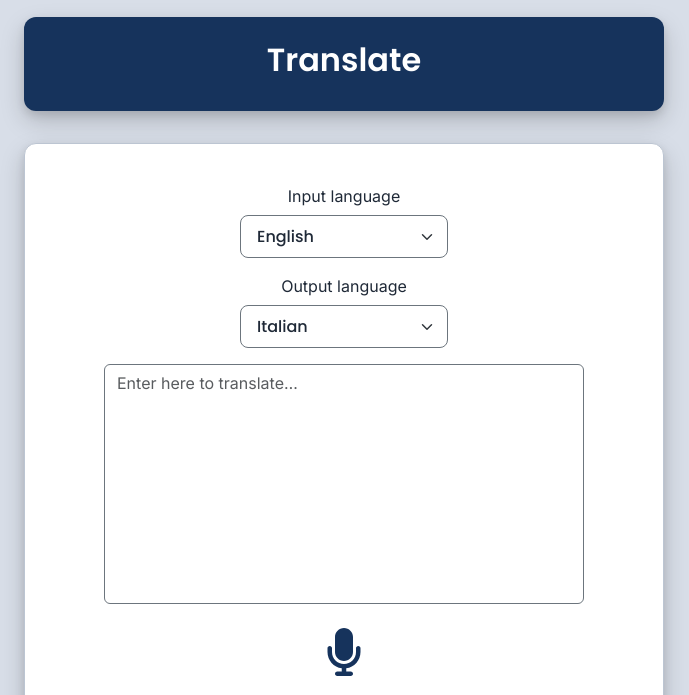
Scenario: Translate › adds each transcript to the text, so a long message can be spoken in parts
Type "ciao, " into the text box with placeholder "Enter here to translate…". click: (344, 484)
box: [104,364,584,604]
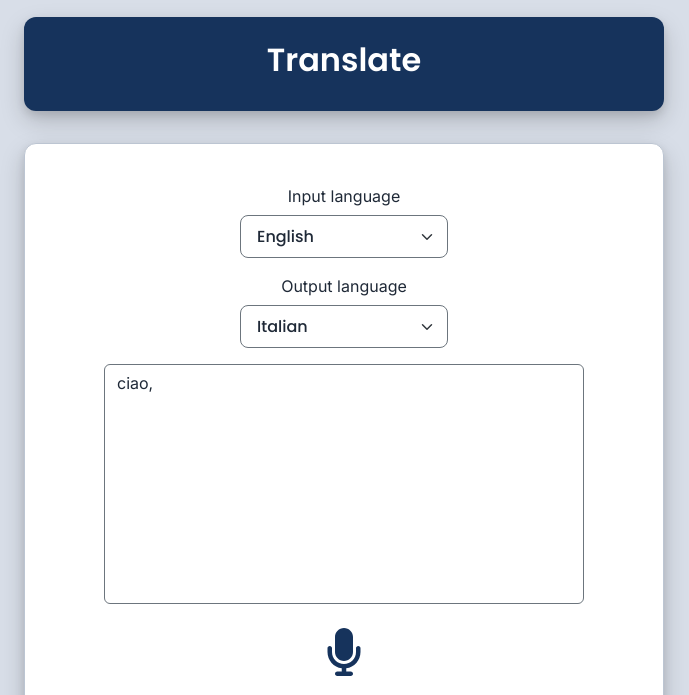
Click the button named "Start recording". click: (344, 652)
box: [318,620,370,684]
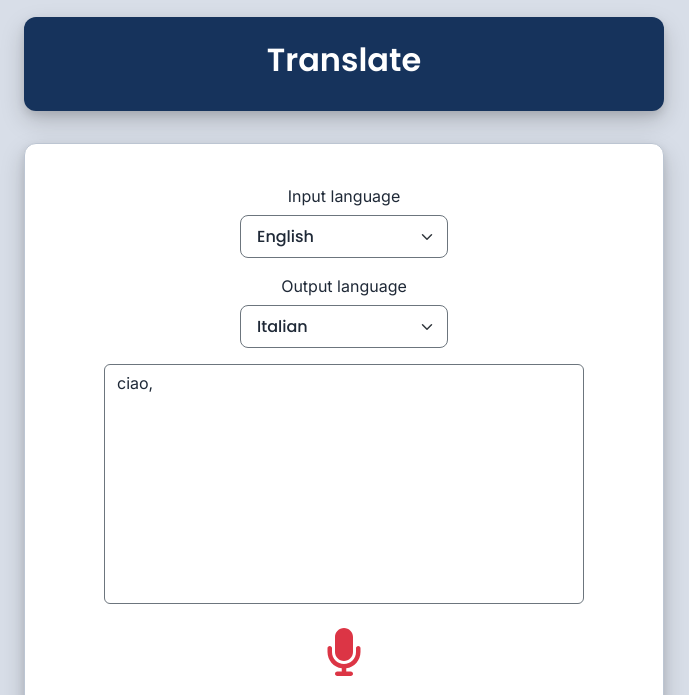
Click the button named "Stop recording". click: (344, 652)
box: [318,620,370,684]
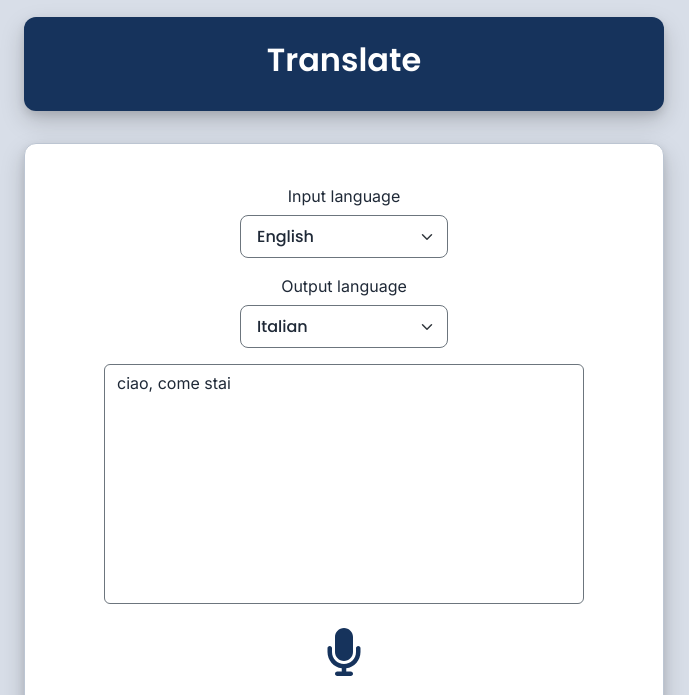
Now the text box holds "ciao, come stai", box [104,364,584,604]
